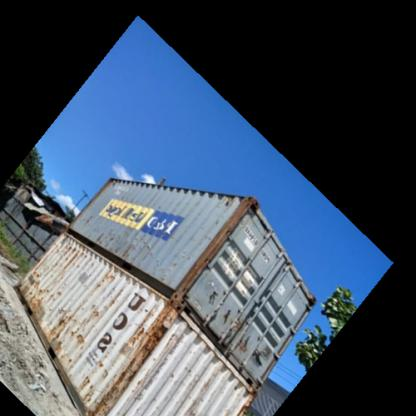Damage: (79, 360, 161, 415), (130, 306, 176, 356), (49, 308, 86, 364), (15, 270, 60, 310), (119, 230, 154, 262), (188, 370, 212, 414), (92, 226, 115, 254), (58, 241, 81, 267), (96, 266, 118, 288), (166, 250, 185, 267), (90, 298, 101, 324), (107, 290, 122, 305), (82, 213, 92, 224)
